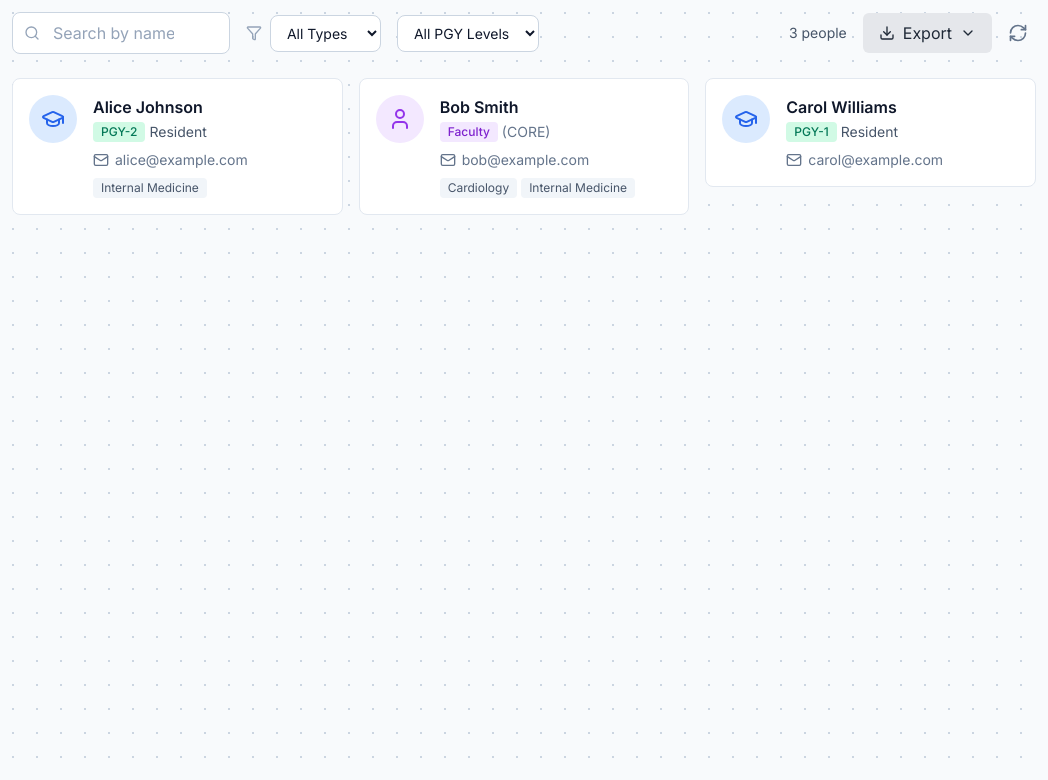
Test: PeopleDirectory › Search › clears search when X button is clicked
Type "alice" into the search field at (121, 33), box [12,12,230,54]
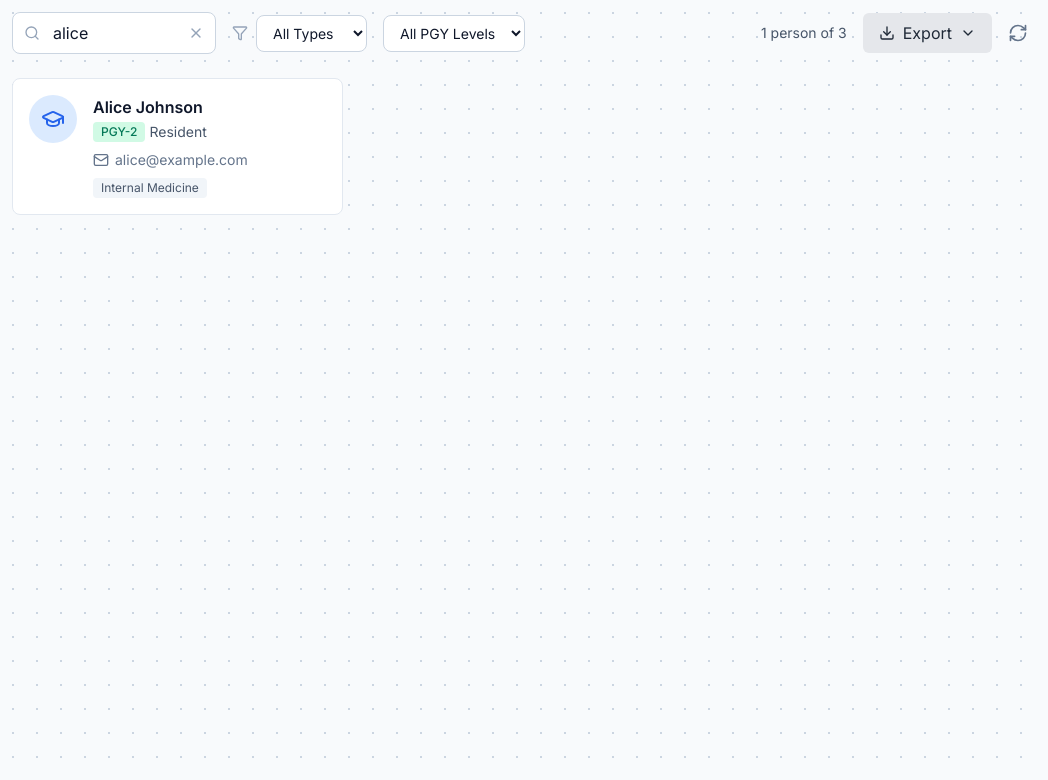
Click the button named "clear search" at (196, 33), box [188,25,204,41]
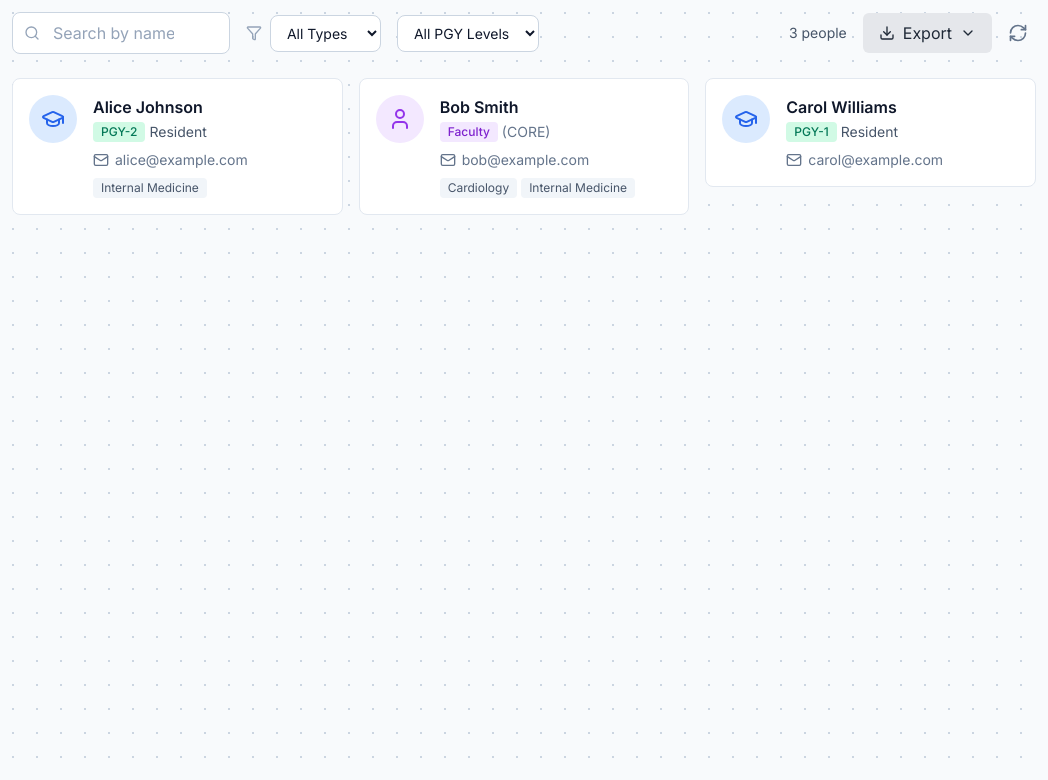
expect the search field is empty: met, box [12,12,230,54]
